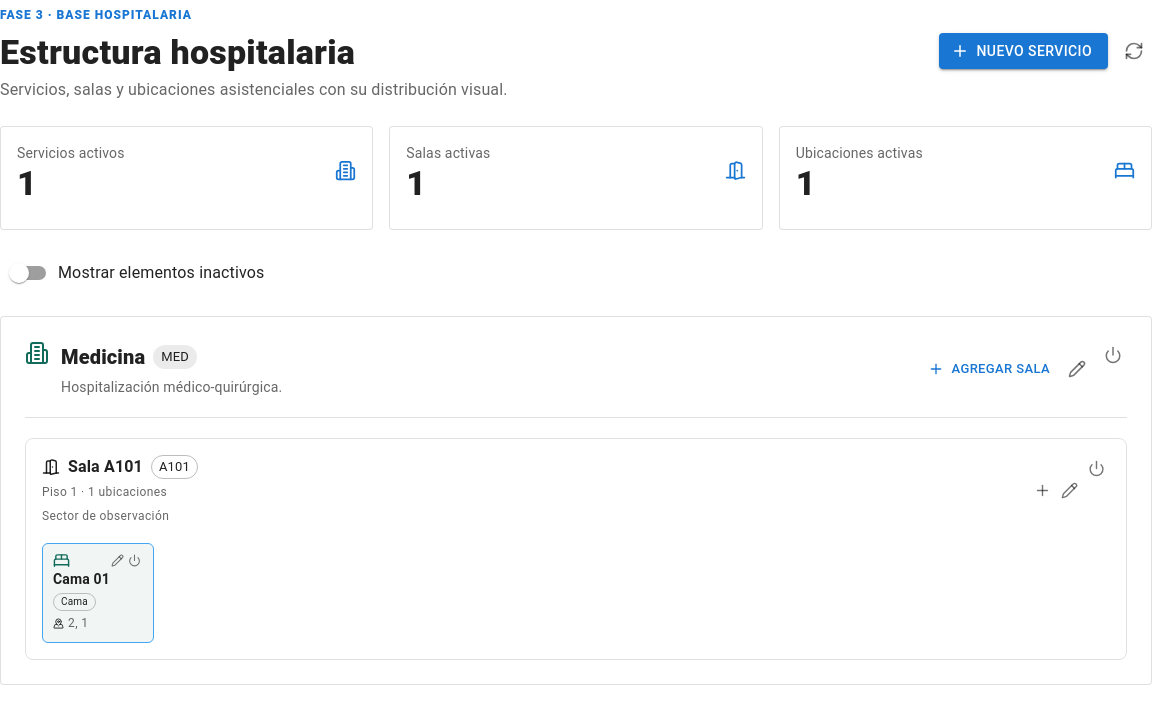
Test: estructura hospitalaria › abre la edición de una ubicación con tipo, datos y posición actuales
Expected: the text "Cama 01" is shown, top-left (53, 571), bottom-right (110, 587)
Click the button named "Editar ubicación Cama 01" at [118, 560], box top-left (109, 552), bottom-right (126, 569)
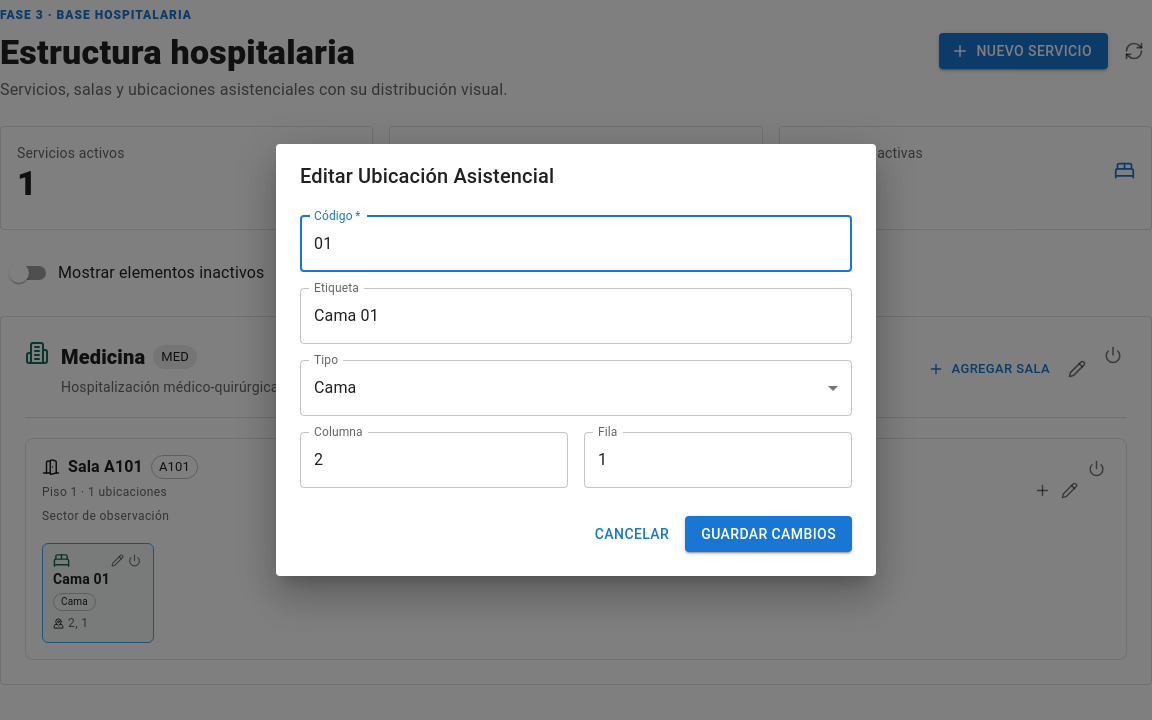
Expected: the field labelled "Código *" holds "01", top-left (300, 216), bottom-right (852, 272)
Expected: the field labelled "Etiqueta" holds "Cama 01", top-left (300, 288), bottom-right (852, 344)
Expected: the dropdown named "Tipo" reads "Cama", top-left (314, 378), bottom-right (356, 397)
